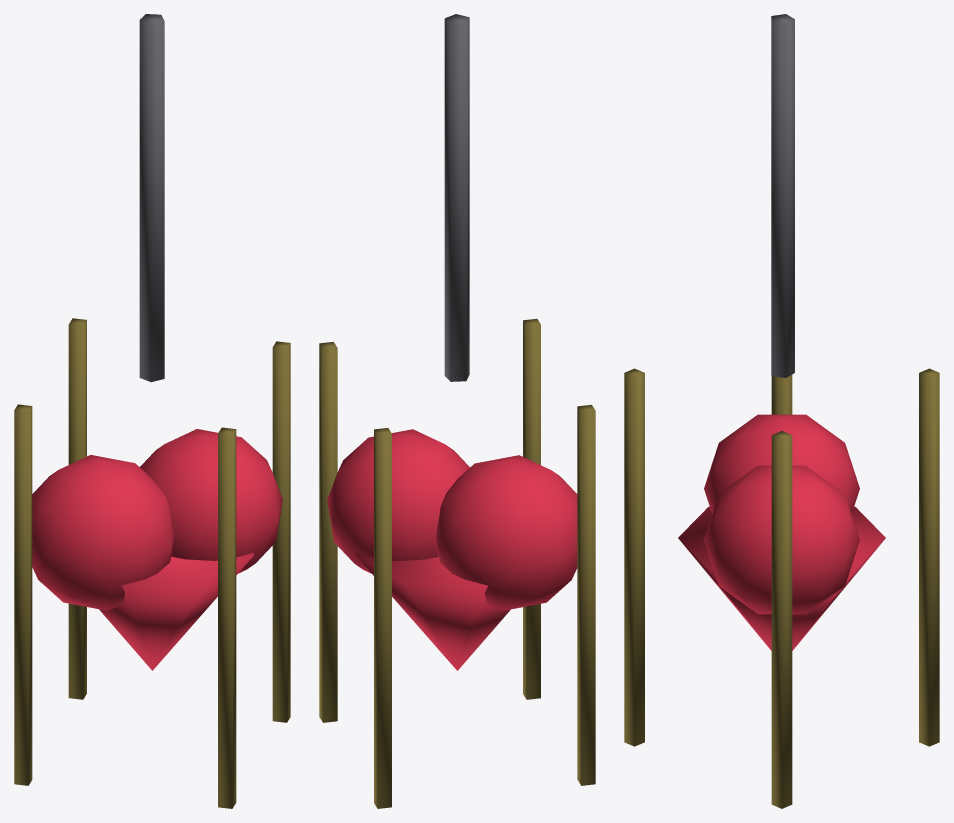
File: heart_lantern_v0.glb
3 views of the same model, side by side, from view 1: azimuth 30°, elevation 25°; view 2: azimuth 150°, elevation 25°; view 3: azimuth 270°, elevation 25° (orthographic).
Parts seen in each view (by area): view 1: heart_lantern_v0; view 2: heart_lantern_v0; view 3: heart_lantern_v0.
Boxes of the visible parts, box(x1,y1,x2,y2) form: heart_lantern_v0: box(14, 14, 290, 808); heart_lantern_v0: box(319, 14, 595, 808); heart_lantern_v0: box(624, 14, 939, 808).
Size of the model in its own units: 0.364 by 0.92 by 0.364.
